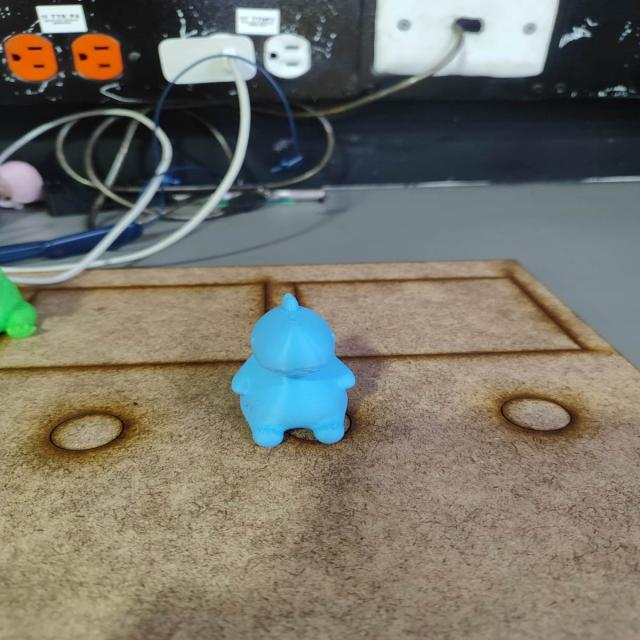DINO: (214, 291, 366, 455)
